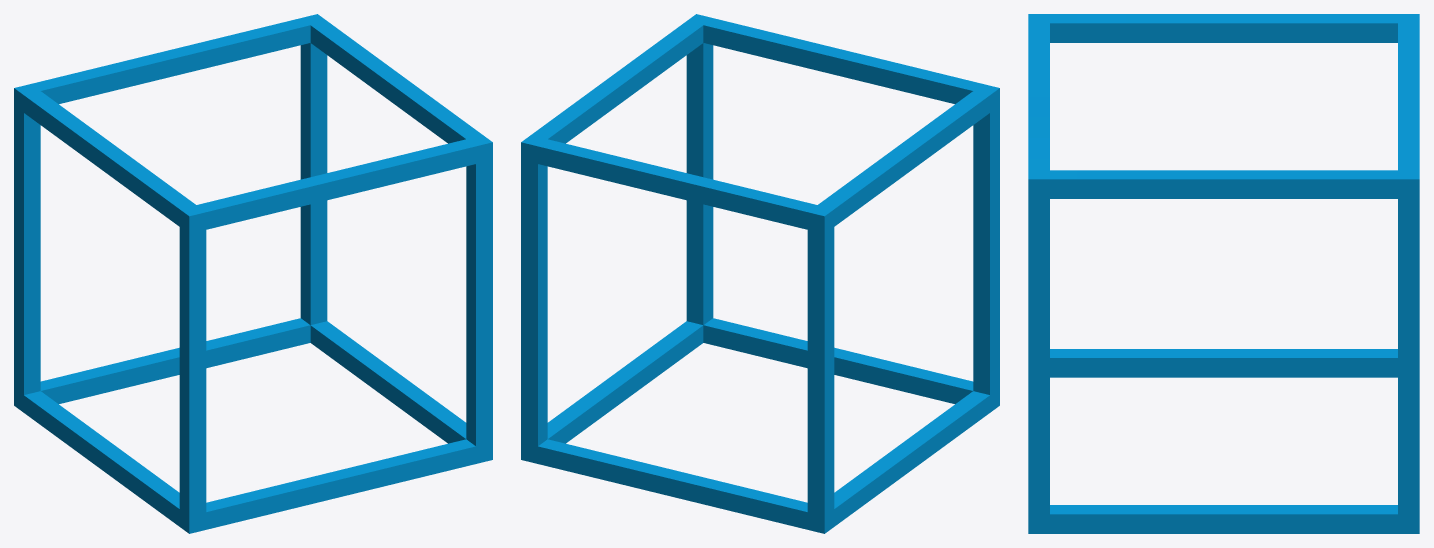
The model's file is fluid_input.obj.
3 renders of one model, left to right at view 1: azimuth 30°, elevation 25°; view 2: azimuth 150°, elevation 25°; view 3: azimuth 270°, elevation 25°, orthographic. The views are drawn at different scales.
Visible parts, largest first — view 1: Cube; view 2: Cube; view 3: Cube.
Boxes of the visible parts, left/top/right/bottom form: Cube: left=14, top=14, right=492, bottom=533; Cube: left=521, top=14, right=999, bottom=533; Cube: left=1028, top=14, right=1419, bottom=533.
Size of the model in its own units: 1.14 by 1.14 by 1.14.
Materials: 1 (1 with a texture image).
